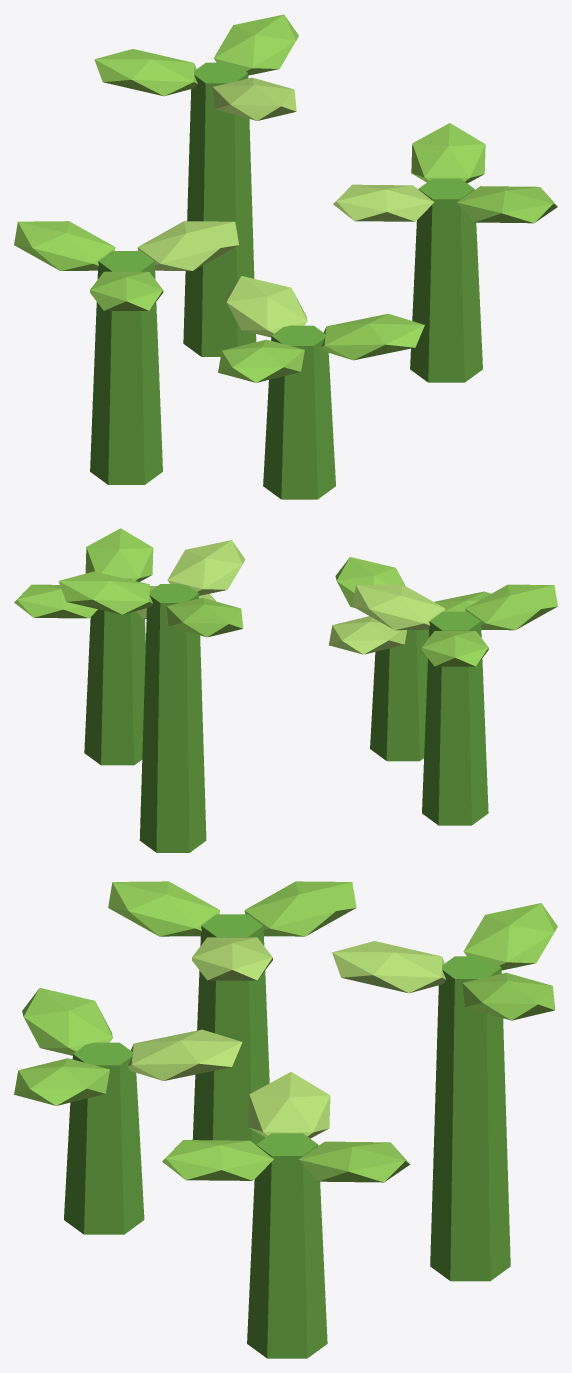
File: clover-patch.glb
3 views of the same model, one above another, from view 1: azimuth 30°, elevation 25°; view 2: azimuth 150°, elevation 25°; view 3: azimuth 270°, elevation 25° (orthographic). The views are drawn at different scales.
Visible parts, largest first — view 1: Clover stem 2, Clover stem 1, Clover stem 3, Clover stem 4, Clover 1 leaf 1, Clover 1 leaf 2, Clover 2 leaf 2, Clover 3 leaf 1, Clover 4 leaf 3, Clover 4 leaf 1, Clover 2 leaf 1, Clover 3 leaf 2 (+4 smaller); view 2: Clover stem 2, Clover stem 1, Clover stem 3, Clover stem 4, Clover 1 leaf 1, Clover 1 leaf 3, Clover 2 leaf 1, Clover 2 leaf 3, Clover 3 leaf 3, Clover 2 leaf 2, Clover 4 leaf 1, Clover 1 leaf 2 (+3 smaller); view 3: Clover stem 2, Clover stem 3, Clover stem 4, Clover stem 1, Clover 1 leaf 2, Clover 1 leaf 3, Clover 2 leaf 3, Clover 3 leaf 2, Clover 4 leaf 1, Clover 2 leaf 2, Clover 4 leaf 2, Clover 3 leaf 3 (+4 smaller).
Boxes of the visible parts, x1,y1,x2,y2 form: Clover stem 2: [183, 62, 256, 356]; Clover stem 1: [90, 251, 162, 484]; Clover stem 3: [410, 178, 482, 382]; Clover stem 4: [263, 325, 335, 499]; Clover 1 leaf 1: [137, 221, 238, 270]; Clover 1 leaf 2: [14, 221, 115, 270]; Clover 2 leaf 2: [94, 49, 197, 96]; Clover 3 leaf 1: [411, 123, 485, 183]; Clover 4 leaf 3: [321, 313, 424, 360]; Clover 4 leaf 1: [225, 276, 307, 337]; Clover 2 leaf 1: [213, 14, 298, 75]; Clover 3 leaf 2: [333, 184, 434, 221]; Clover stem 2: [139, 584, 206, 852]; Clover stem 1: [422, 611, 488, 825]; Clover stem 3: [84, 579, 145, 765]; Clover stem 4: [370, 630, 428, 761]; Clover 1 leaf 1: [352, 584, 444, 630]; Clover 1 leaf 3: [465, 584, 557, 630]; Clover 2 leaf 1: [58, 571, 152, 614]; Clover 2 leaf 3: [167, 540, 245, 595]; Clover 3 leaf 3: [85, 528, 153, 581]; Clover 2 leaf 2: [166, 597, 243, 637]; Clover 4 leaf 1: [329, 616, 406, 654]; Clover 1 leaf 2: [421, 631, 488, 666]; Clover stem 2: [430, 956, 510, 1281]; Clover stem 3: [247, 1133, 327, 1358]; Clover stem 4: [64, 1042, 144, 1234]; Clover stem 1: [192, 914, 269, 1144]; Clover 1 leaf 2: [244, 881, 356, 936]; Clover 1 leaf 3: [108, 881, 219, 936]; Clover 2 leaf 3: [332, 941, 446, 993]; Clover 3 leaf 2: [248, 1072, 330, 1138]; Clover 4 leaf 1: [127, 1029, 242, 1080]; Clover 2 leaf 2: [463, 903, 557, 970]; Clover 4 leaf 2: [22, 988, 112, 1055]; Clover 3 leaf 3: [162, 1140, 273, 1180].
Size of the model in its own units: 0.3356 by 0.1889 by 0.297.
